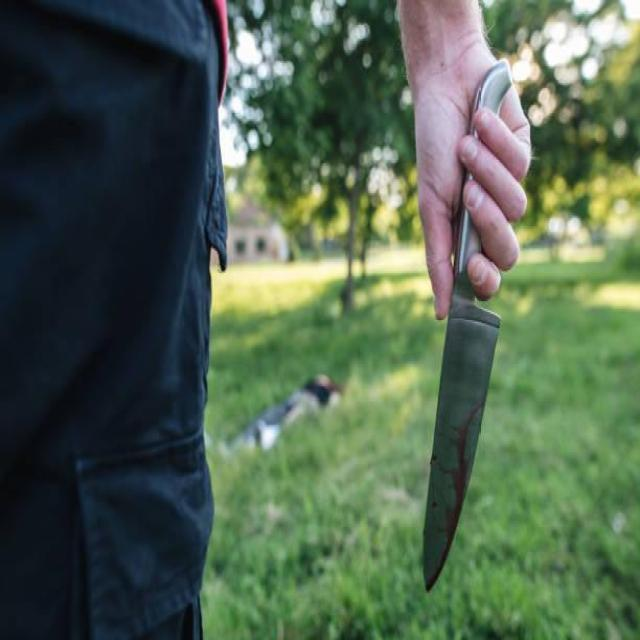faca: (394, 42, 534, 607)
